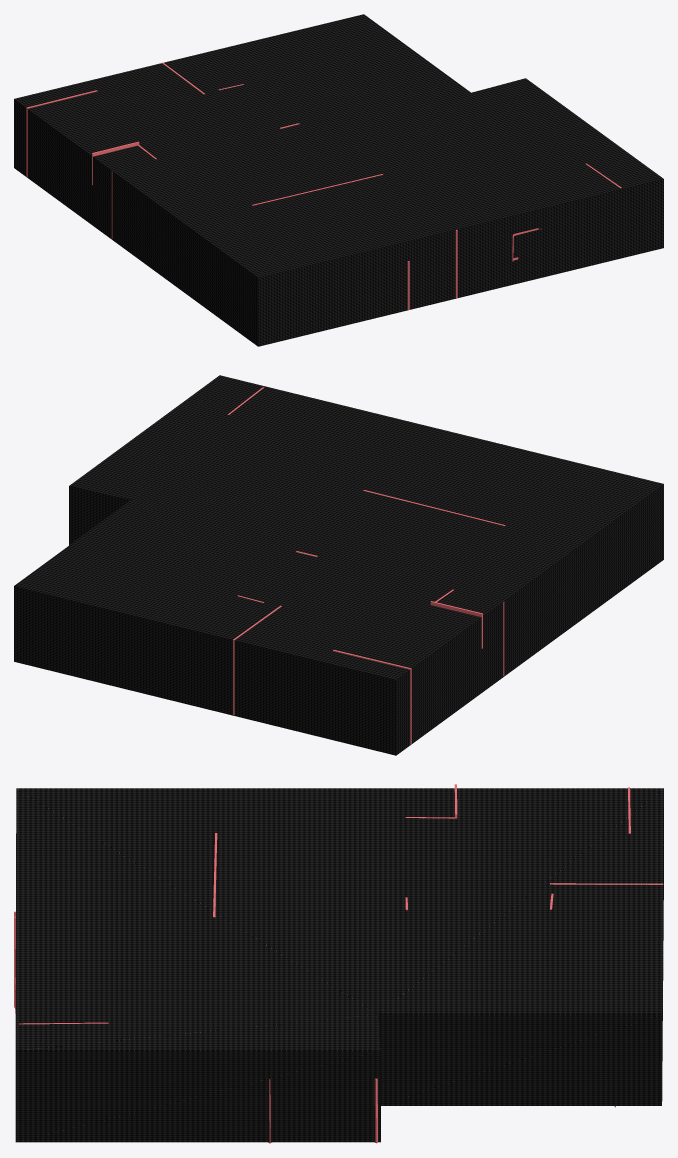
File: teststage18.fbx
3 renders of one model, top to bottom at view 1: azimuth 30°, elevation 25°; view 2: azimuth 150°, elevation 25°; view 3: azimuth 270°, elevation 25°, orthographic. The views are drawn at different scales.
Visible parts, largest first — view 1: New_Game_Object__2_; view 2: New_Game_Object__2_; view 3: New_Game_Object__2_.
Part boxes in pixels (<box>): New_Game_Object__2_: <box>14,14,663,346</box>; New_Game_Object__2_: <box>14,375,663,755</box>; New_Game_Object__2_: <box>15,788,663,1142</box>.
Size of the model in its own units: 6266 by 1077 by 6543.
